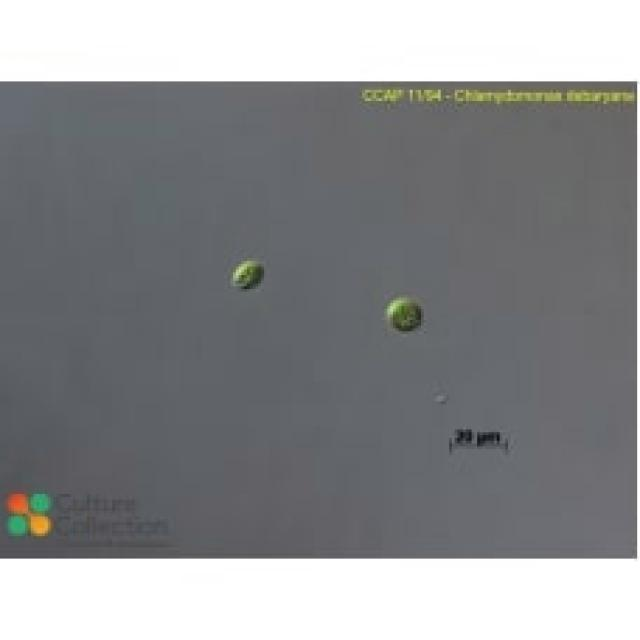Green Algae: (382, 292, 426, 331), (230, 258, 267, 289)
